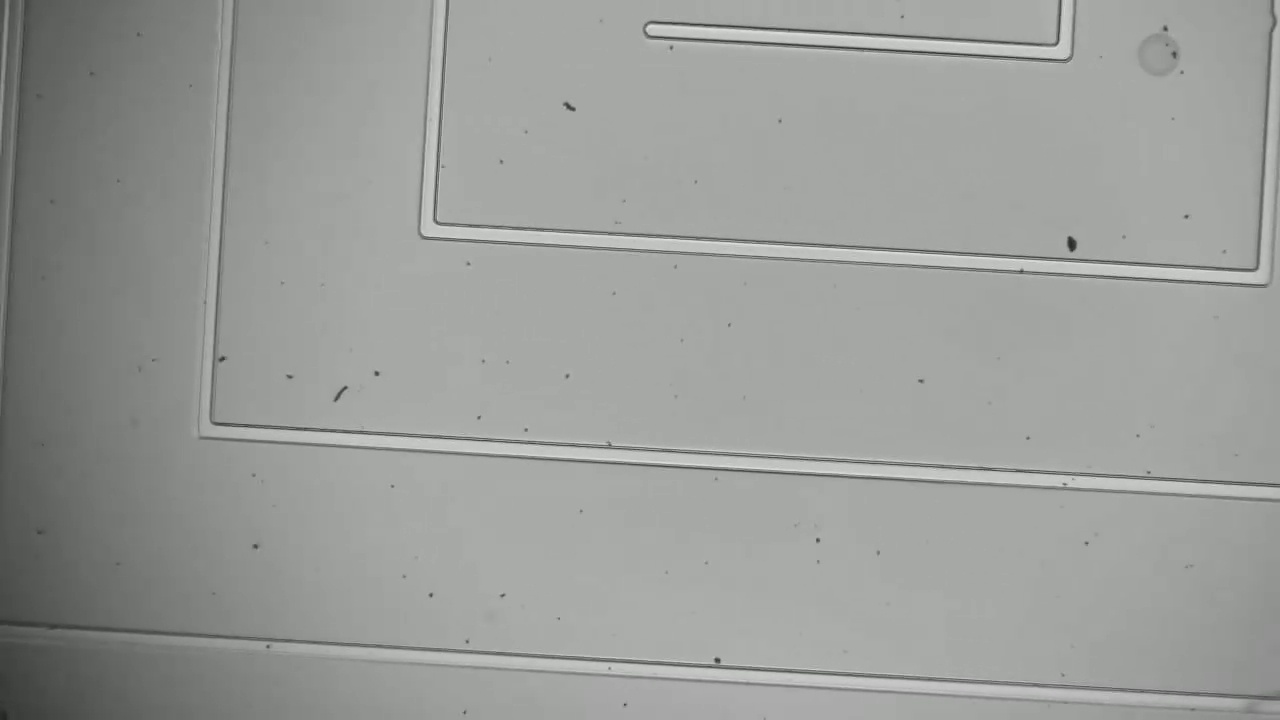edge_bite: (1261, 7, 1279, 39)
